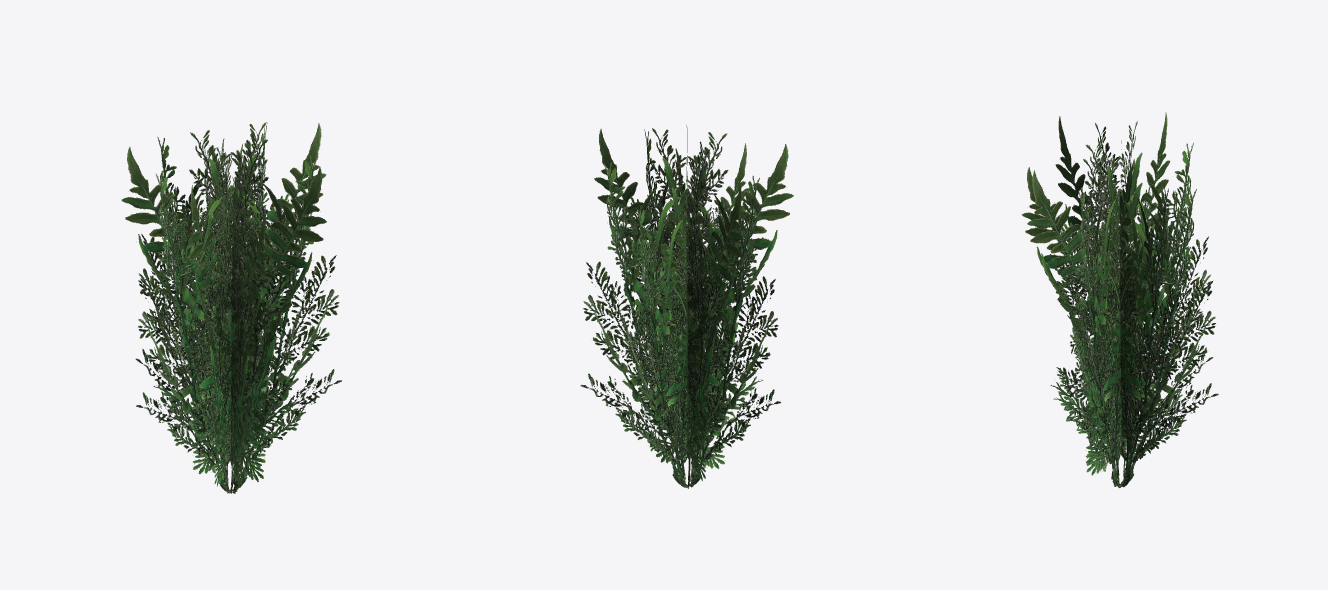
File: SeaPlant_02.DAE
3 renders of one model, left to right at view 1: azimuth 30°, elevation 25°; view 2: azimuth 150°, elevation 25°; view 3: azimuth 270°, elevation 25°, orthographic. The views are drawn at different scales.
Parts seen in each view (by area): view 1: SeaPlantTwo128, SeaPlantTwo256; view 2: SeaPlantTwo256, SeaPlantTwo128; view 3: SeaPlantTwo128, SeaPlantTwo256.
Part boxes in pixels (x1=…): SeaPlantTwo128: x1=121, y1=122, x2=341, y2=493; SeaPlantTwo256: x1=135, y1=122, x2=326, y2=493; SeaPlantTwo256: x1=583, y1=125, x2=791, y2=487; SeaPlantTwo128: x1=580, y1=129, x2=793, y2=488; SeaPlantTwo128: x1=1027, y1=116, x2=1218, y2=487; SeaPlantTwo256: x1=1021, y1=112, x2=1198, y2=483.
Bounding box in the file's own units: 138 × 126 × 138.
